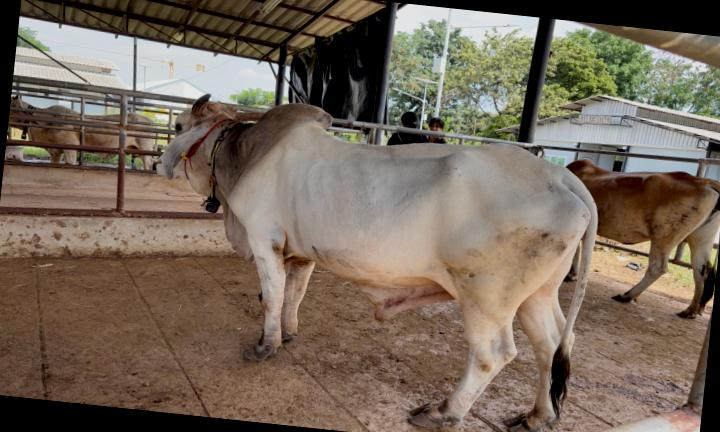Brahman: (157, 96, 597, 432)
